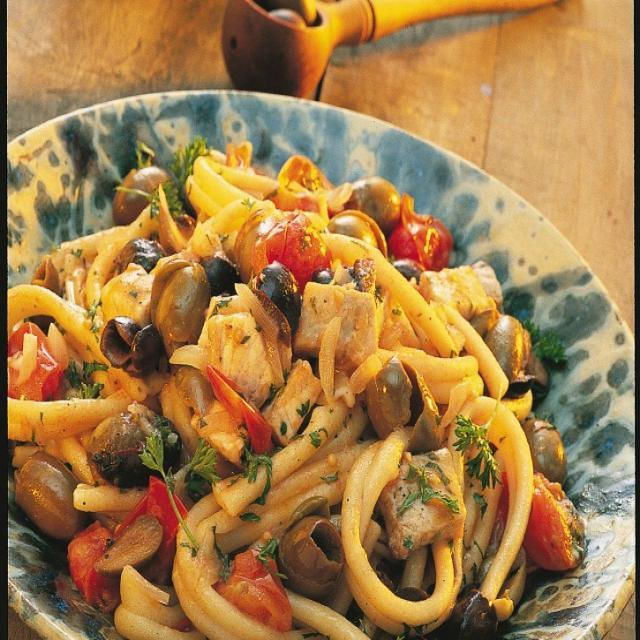Pasta al ragu: (23, 121, 571, 609)
